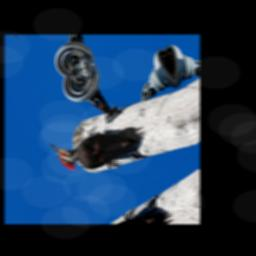Woodpecker: (47, 101, 153, 194)
